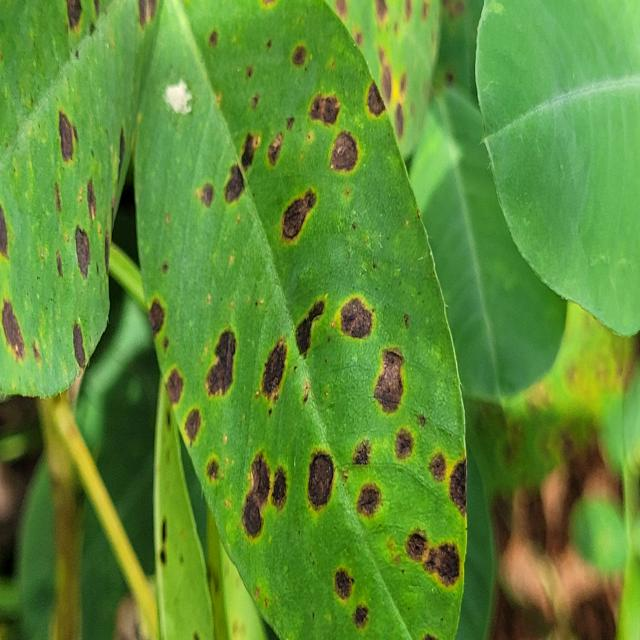Ground nut_tikka leaf spot: (135, 0, 471, 640)
